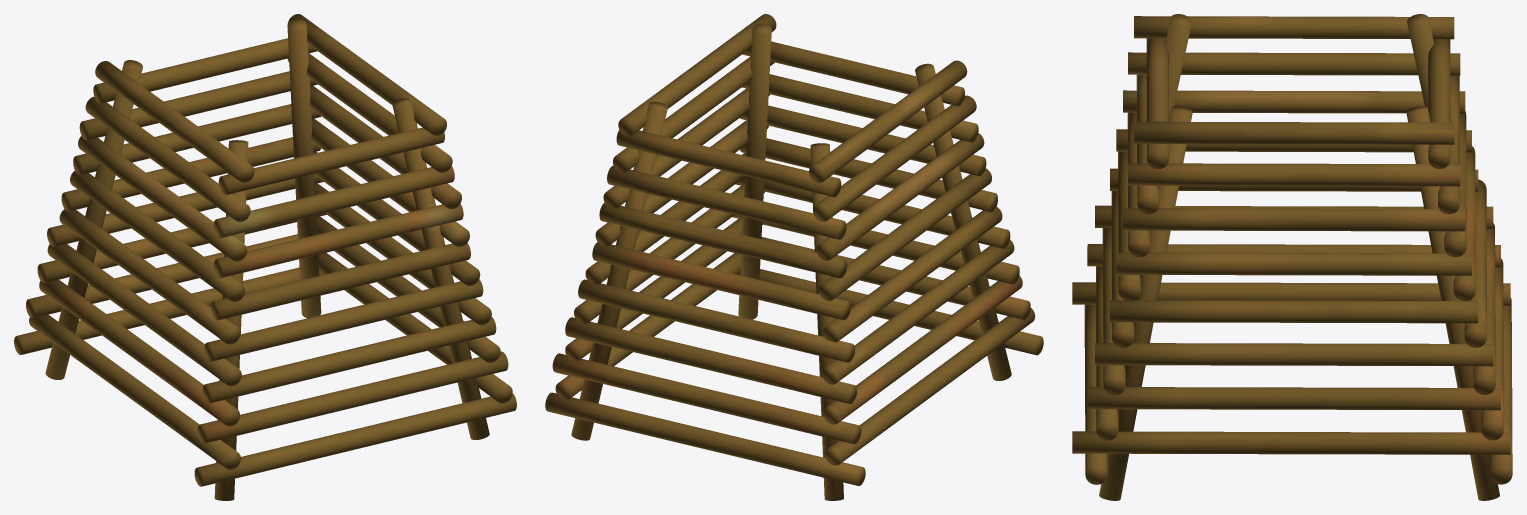
File: bonfire.fbx
The picture shows the model from 3 angles, left to right: view 1: azimuth 30°, elevation 25°; view 2: azimuth 150°, elevation 25°; view 3: azimuth 270°, elevation 25°; orthographic projection. The views are drawn at different scales.
Visible parts, largest first — view 1: Cylinder.002; view 2: Cylinder.002; view 3: Cylinder.002.
Boxes of the visible parts, x1,y1,x2,y2 form: Cylinder.002: (14,14,516,500); Cylinder.002: (545,14,1043,500); Cylinder.002: (1072,14,1512,500).
Bounding box in the file's own units: 3656 × 3633 × 3954.
Materials: 1 (1 with a texture image).
